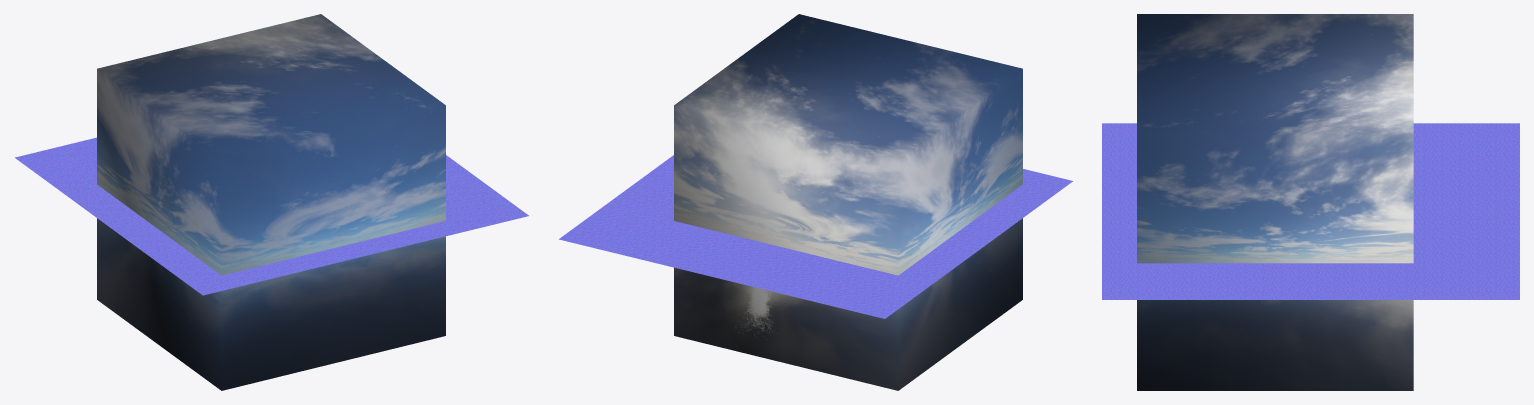
Rendered from sky2.obj.
3 renders of one model, left to right at view 1: azimuth 30°, elevation 25°; view 2: azimuth 150°, elevation 25°; view 3: azimuth 270°, elevation 25°, orthographic. The views are drawn at different scales.
Bounding box in the file's own units: 200 × 135 × 200.
Materials: 4 (4 with a texture image).
